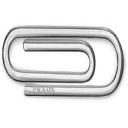Metal: (2, 22, 128, 105)
